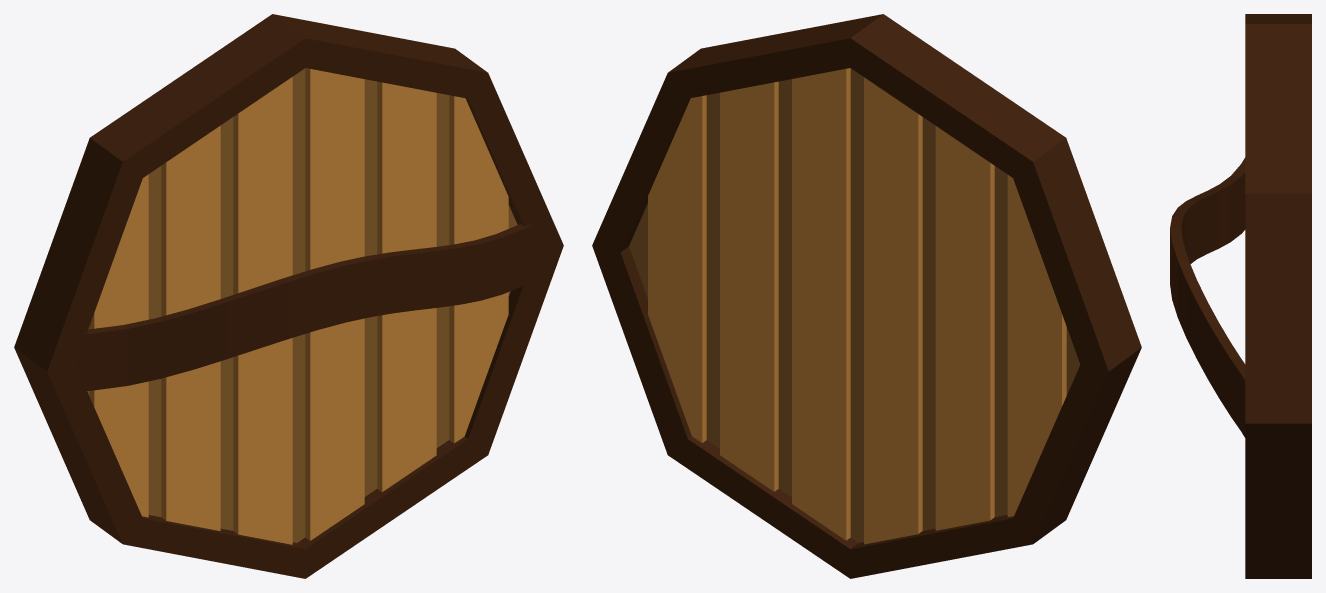
The model's file is Shield.glb.
3 views of the same model, side by side, from view 1: azimuth 30°, elevation 25°; view 2: azimuth 150°, elevation 25°; view 3: azimuth 270°, elevation 25° (orthographic).
Parts seen in each view (by area): view 1: buckler; view 2: buckler; view 3: buckler.
Part boxes in pixels (<box>): buckler: <box>14,14,563,578</box>; buckler: <box>592,14,1141,578</box>; buckler: <box>1170,14,1311,578</box>.
Bounding box in the file's own units: 0.9584 × 0.9584 × 0.2261.
